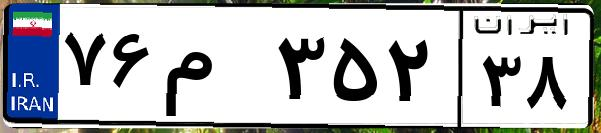2: (385, 28, 445, 110)
3: (270, 28, 330, 110), (475, 38, 525, 113)
5: (330, 28, 385, 110)
6: (110, 28, 158, 98)
7: (57, 26, 110, 100)
8: (525, 38, 570, 115)
م: (158, 20, 270, 120)
